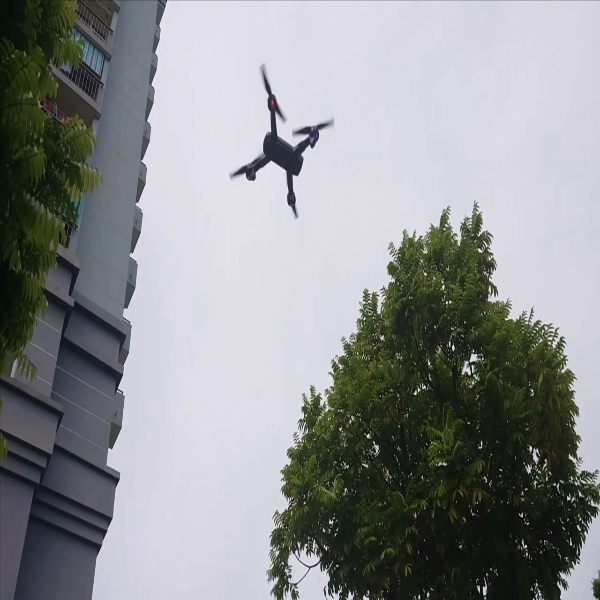drone: (211, 56, 337, 225)
